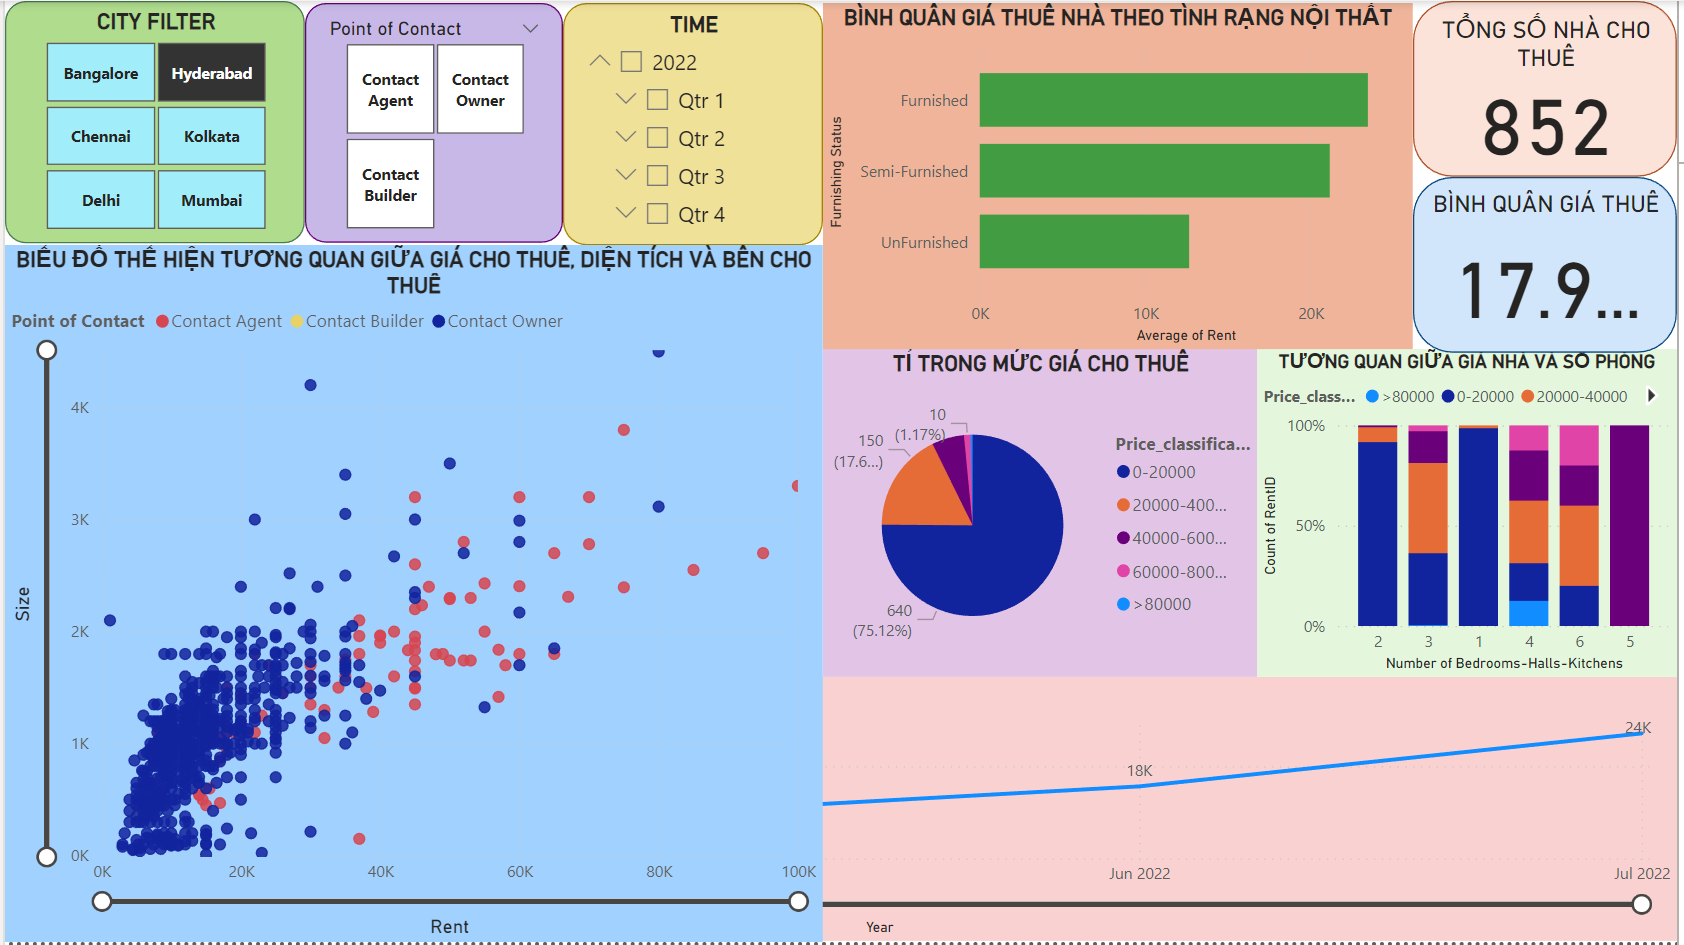

Layout of this report page (visuals, bound fields, positions):
{"tool":"powerbi","page":{"name":"Page 2","canvas":[1280,720],"ordinal":1},"visuals":[{"type":"card","title":"TỔNG SỐ NHÀ CHO THUÊ","fields":{"Values":["CountNonNull(Preprocessed_House_Rent.RentID)"]},"box":[1077.9,0,202.1,134.7],"z":0},{"type":"slicer","title":"CITY FILTER","fields":{"Values":["Preprocessed_House_Rent.City"]},"box":[0,0,229.7,185.3],"z":1000},{"type":"pieChart","title":"TỈ TRONG MỨC GIÁ CHO THUÊ","fields":{"Category":["Preprocessed_House_Rent.Price_classification"],"Y":["CountNonNull(Preprocessed_House_Rent.RentID)"]},"box":[626.2,266.4,333.8,251.1],"z":2000},{"type":"lineChart","title":"SỰ THAY ĐỔI GIÁ THUÊ THEO THỜI GIAN","fields":{"Category":["Preprocessed_House_Rent.Posted On.Variation.Date Hierarchy.Year","Preprocessed_House_Rent.Posted On.Variation.Date Hierarchy.Quarter","Preprocessed_House_Rent.Posted On.Variation.Date Hierarchy.Month"],"Y":["Avg(Preprocessed_House_Rent.Rent)"]},"box":[0,517.5,1280,202.1],"z":3000},{"type":"slicer","fields":{"Values":["Preprocessed_House_Rent.Point of Contact"]},"box":[229.7,1.5,197.5,183.7],"z":4000},{"type":"slicer","title":"TIME","fields":{"Values":["Preprocessed_House_Rent.Posted On.Variation.Date Hierarchy.Year","Preprocessed_House_Rent.Posted On.Variation.Date Hierarchy.Quarter","Preprocessed_House_Rent.Posted On.Variation.Date Hierarchy.Month","Preprocessed_House_Rent.Posted On.Variation.Date Hierarchy.Day"]},"box":[427.2,1.5,199,185.3],"z":5000},{"type":"scatterChart","title":"BIỂU ĐỒ THỂ HIỆN TƯƠNG QUAN GIỮA GIÁ CHO THUÊ, DIỆN TÍCH VÀ BÊN CHO THUÊ","fields":{"Series":["Preprocessed_House_Rent.Point of Contact"],"X":["Preprocessed_House_Rent.Rent"],"Y":["Preprocessed_House_Rent.Size"]},"box":[0,186.8,626.2,330.7],"z":6000},{"type":"hundredPercentStackedColumnChart","title":"TƯƠNG QUAN GIỮA GIÁ NHÀ VÀ SỐ PHÒNG","fields":{"Category":["Preprocessed_House_Rent.Number of Bedrooms-Halls-Kitchens"],"Y":["CountNonNull(Preprocessed_House_Rent.RentID)"],"Series":["Preprocessed_House_Rent.Price_classification"]},"box":[958.5,266.4,321.5,251.1],"z":7000},{"type":"clusteredBarChart","title":"BÌNH QUÂN GIÁ THUÊ NHÀ THEO TÌNH RẠNG NỘI THẤT","fields":{"Y":["Avg(Preprocessed_House_Rent.Rent)"],"Category":["Preprocessed_House_Rent.Furnishing Status"]},"box":[626.2,1.5,451.7,264.9],"z":8000},{"type":"card","title":"BÌNH QUÂN GIÁ THUÊ","fields":{"Values":["Avg(Preprocessed_House_Rent.Rent)"]},"box":[1077.9,134.7,202.1,134.7],"z":9000}]}

Visuals, with their boxes in screenshot pixels (x1, y1, x2, y2), scaled from the page's 1280x720 canvas onto the 1684x945 screenshot:
"TỔNG SỐ NHÀ CHO THUÊ" card: detection(1418, 0, 1683, 177)
"CITY FILTER" slicer: detection(0, 0, 302, 243)
"TỈ TRONG MỨC GIÁ CHO THUÊ" pieChart: detection(824, 350, 1263, 679)
"SỰ THAY ĐỔI GIÁ THUÊ THEO THỜI GIAN" lineChart: detection(0, 679, 1683, 944)
slicer - Preprocessed_House_Rent.Point of Contact: detection(302, 2, 562, 243)
"TIME" slicer: detection(562, 2, 824, 245)
"BIỂU ĐỒ THỂ HIỆN TƯƠNG QUAN GIỮA GIÁ CHO THUÊ, DIỆN TÍCH VÀ BÊN CHO THUÊ" scatterChart: detection(0, 245, 824, 679)
"TƯƠNG QUAN GIỮA GIÁ NHÀ VÀ SỐ PHÒNG" hundredPercentStackedColumnChart: detection(1261, 350, 1683, 679)
"BÌNH QUÂN GIÁ THUÊ NHÀ THEO TÌNH RẠNG NỘI THẤT" clusteredBarChart: detection(824, 2, 1418, 350)
"BÌNH QUÂN GIÁ THUÊ" card: detection(1418, 177, 1683, 354)
